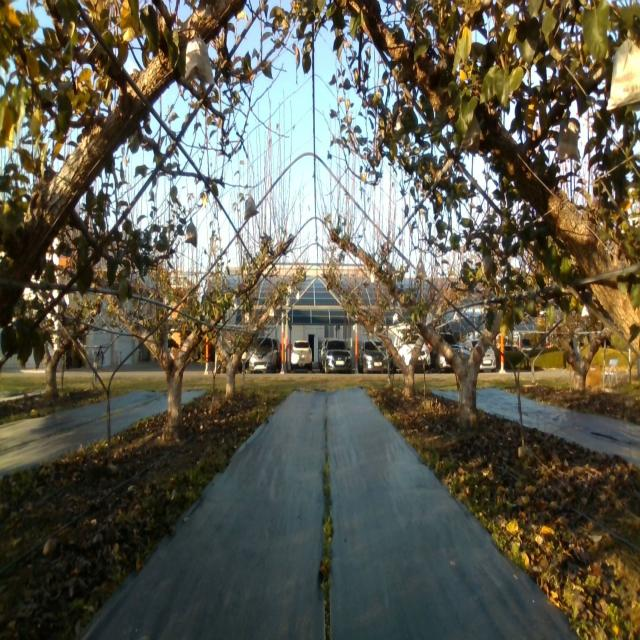pearbags: (607, 38, 640, 111), (185, 38, 215, 85), (556, 118, 580, 162), (185, 220, 197, 247), (245, 195, 258, 219), (415, 259, 427, 280)
